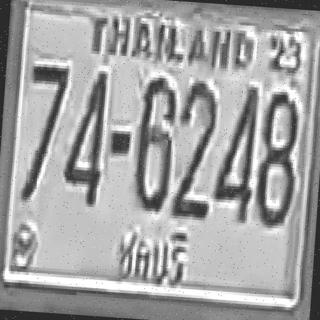N02: (170, 79, 218, 218)
N04: (210, 81, 258, 219), (61, 66, 107, 204)
N06: (131, 74, 177, 209)
N07: (19, 60, 69, 202)
N08: (253, 88, 299, 226)
P13: (108, 222, 196, 296)
